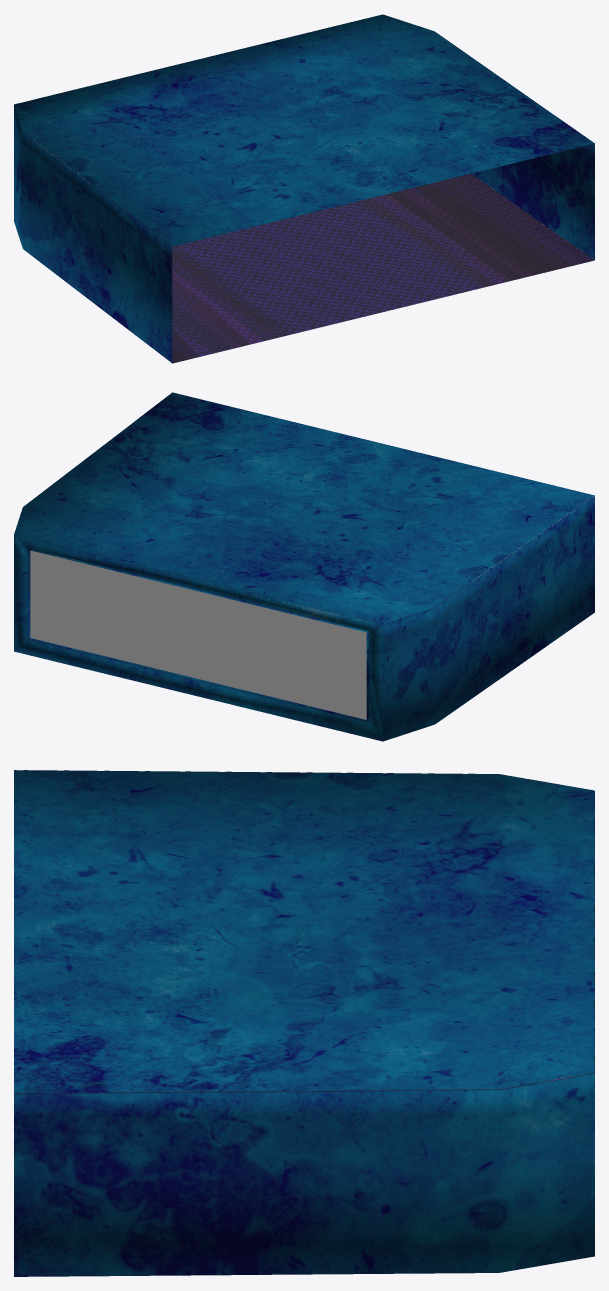
File: Ship.fbx
3 views of the same model, one above another, from view 1: azimuth 30°, elevation 25°; view 2: azimuth 150°, elevation 25°; view 3: azimuth 270°, elevation 25° (orthographic). The views are drawn at different scales.
Parts seen in each view (by area): view 1: Walls; view 2: Walls, WindowFront; view 3: Walls.
Boxes of the visible parts, x1,y1,x2,y2 form: Walls: (14,14,594,363); Walls: (14,392,594,741); WindowFront: (30,550,366,719); Walls: (14,770,594,1276).
Bounding box in the file's own units: 1925 × 522 × 1462.
Materials: 4 (2 with a texture image).
